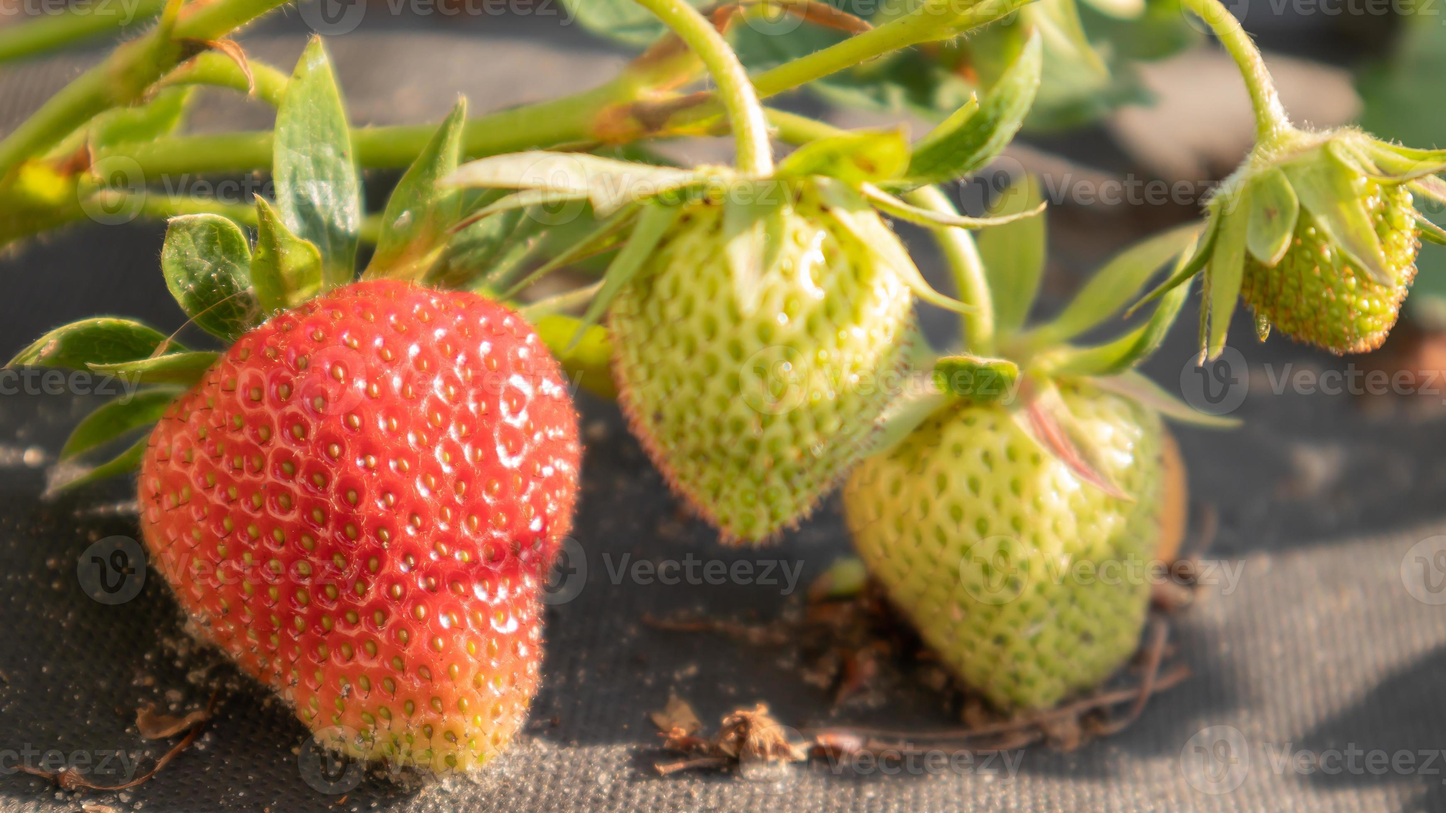straw-ripe: (141, 275, 584, 770)
straw-unripe: (610, 169, 912, 545), (847, 348, 1165, 701), (1216, 127, 1419, 354)
